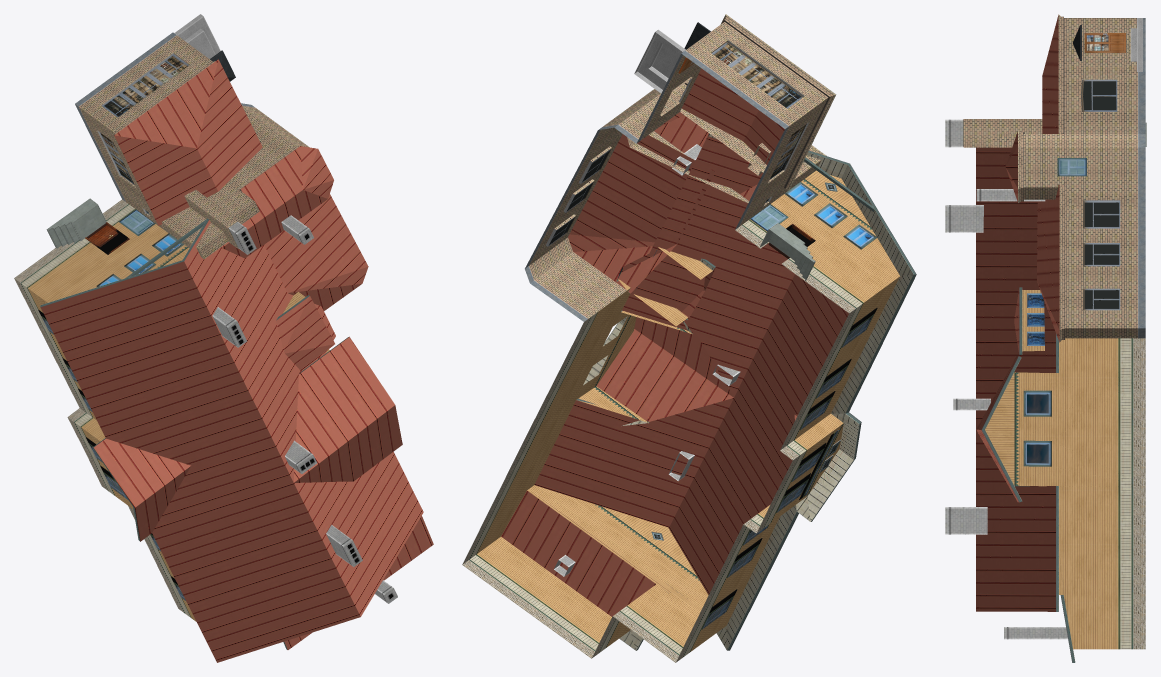
File: 103_Toompuiestee_16_korvalhoone.obj
3 views of the same model, side by side, from view 1: azimuth 30°, elevation 25°; view 2: azimuth 150°, elevation 25°; view 3: azimuth 270°, elevation 25° (orthographic). The views are drawn at different scales.
Parts seen in each view (by area): view 1: house00; view 2: house00; view 3: house00.
Boxes of the visible parts, x1=… form: house00: x1=14, y1=14, x2=433, y2=662; house00: x1=462, y1=14, x2=916, y2=662; house00: x1=945, y1=14, x2=1146, y2=662.
Bounding box in the file's own units: 26.51 × 39.3 × 11.57.
